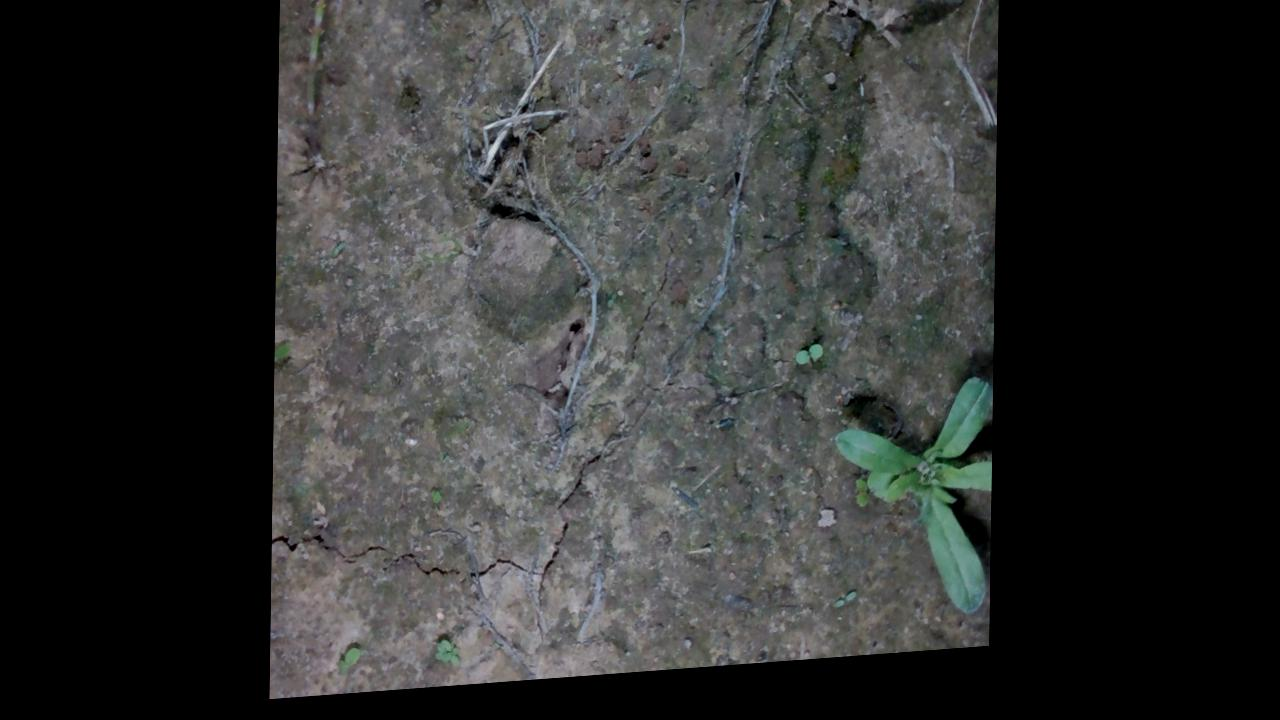weed: (792, 354, 824, 388), (434, 644, 463, 680), (335, 652, 364, 679)
